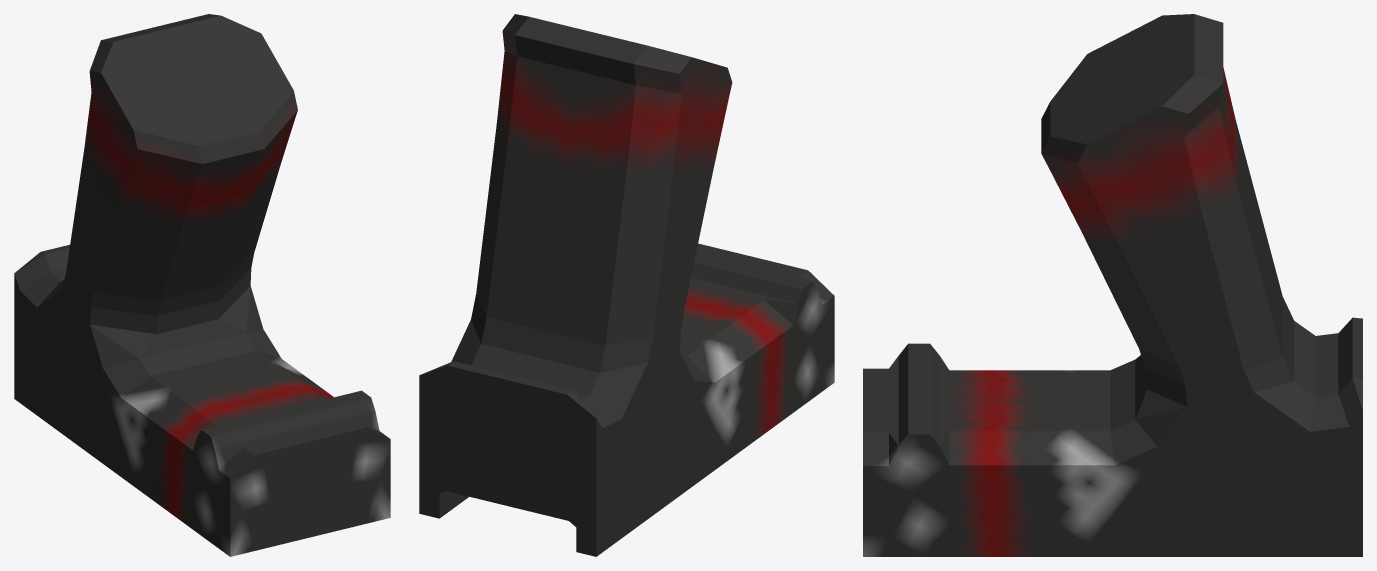
Rendered from ReplikaSMGGrip.fbx.
The picture shows the model from 3 angles, left to right: view 1: azimuth 30°, elevation 25°; view 2: azimuth 150°, elevation 25°; view 3: azimuth 270°, elevation 25°; orthographic projection. The views are drawn at different scales.
Parts seen in each view (by area): view 1: SMGGrip.001; view 2: SMGGrip.001; view 3: SMGGrip.001.
Part boxes in pixels (bbox=[...]): SMGGrip.001: bbox=[14, 14, 390, 556]; SMGGrip.001: bbox=[419, 14, 834, 556]; SMGGrip.001: bbox=[863, 14, 1362, 556].
Bounding box in the file's own units: 0.1135 × 0.0472 × 0.11.
